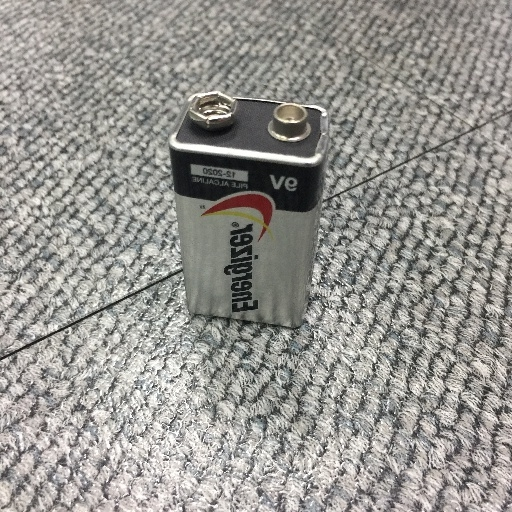Battery_3: (157, 80, 337, 353)
